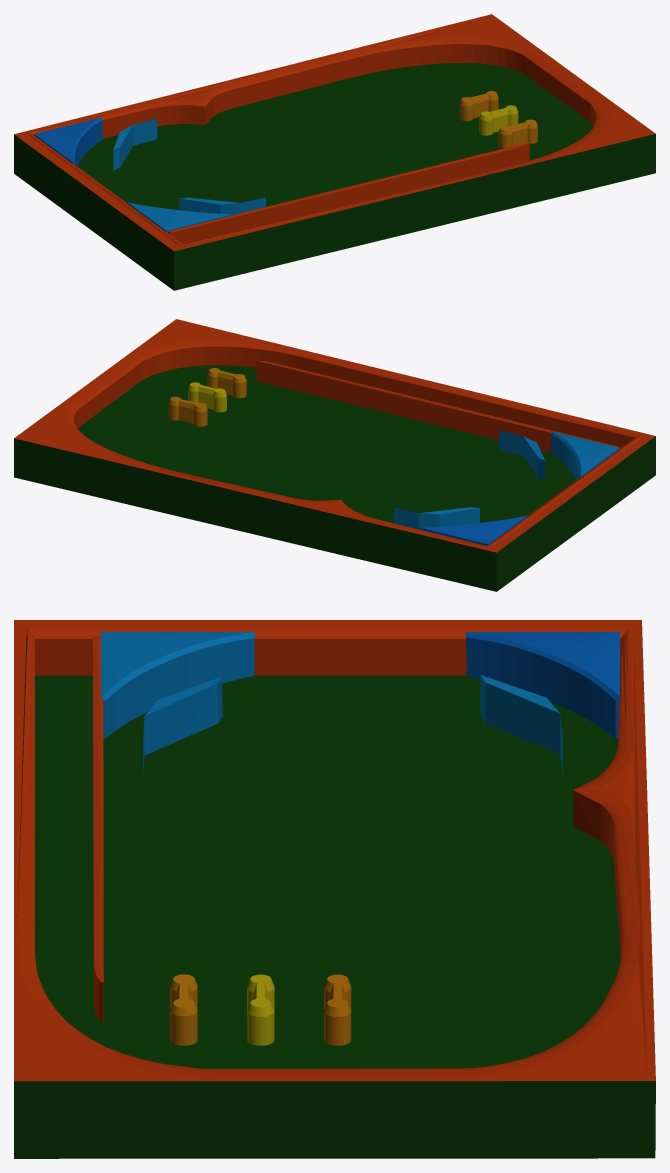
Rendered from textured_pinball_table.obj.
3 renders of one model, top to bottom at view 1: azimuth 30°, elevation 25°; view 2: azimuth 150°, elevation 25°; view 3: azimuth 270°, elevation 25°, orthographic. The views are drawn at different scales.
Parts seen in each view (by area): view 1: Board_Cube.006, Left_Cube.002, Right_Cube.001, leftdivider_Cube, rightdivider_Cube.003, Cylinder.002_Cylinder.004, Cylinder, Cylinder.001_Cylinder.003; view 2: Board_Cube.006, Right_Cube.001, leftdivider_Cube, Left_Cube.002, rightdivider_Cube.003, Cylinder, Cylinder.002_Cylinder.004, Cylinder.001_Cylinder.003; view 3: Board_Cube.006, Left_Cube.002, Right_Cube.001, leftdivider_Cube, rightdivider_Cube.003, Cylinder.002_Cylinder.004, Cylinder.001_Cylinder.003, Cylinder.
Part boxes in pixels (x1,y1,x2,y2): Board_Cube.006: (14,14,655,290); Left_Cube.002: (34,117,102,166); Right_Cube.001: (127,202,233,232); leftdivider_Cube: (113,118,157,170); rightdivider_Cube.003: (179,197,265,214); Cylinder.002_Cylinder.004: (498,119,537,148); Cylinder: (459,91,498,121); Cylinder.001_Cylinder.003: (479,105,518,135); Board_Cube.006: (14,319,655,591); Right_Cube.001: (551,431,619,480); leftdivider_Cube: (394,507,479,529); Left_Cube.002: (420,515,526,545); rightdivider_Cube.003: (499,430,545,480); Cylinder: (168,396,207,426); Cylinder.002_Cylinder.004: (207,368,246,398); Cylinder.001_Cylinder.003: (188,382,226,412); Board_Cube.006: (14,620,655,1158); Left_Cube.002: (466,632,619,738); Right_Cube.001: (101,632,254,738); leftdivider_Cube: (480,675,562,776); rightdivider_Cube.003: (143,676,222,774); Cylinder.002_Cylinder.004: (170,974,197,1045); Cylinder.001_Cylinder.003: (247,974,274,1045); Cylinder: (324,974,351,1045).
Bounding box in the file's own units: 28.4 × 2.38 × 16.7.
